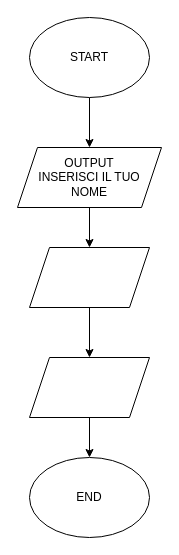
This 179x555 diagram has some shape labels left out. Each missing label, with the centre of its shape:
INPUT NOME: pixel 89 277
OUTPUT CIAO + NOME: pixel 89 387
